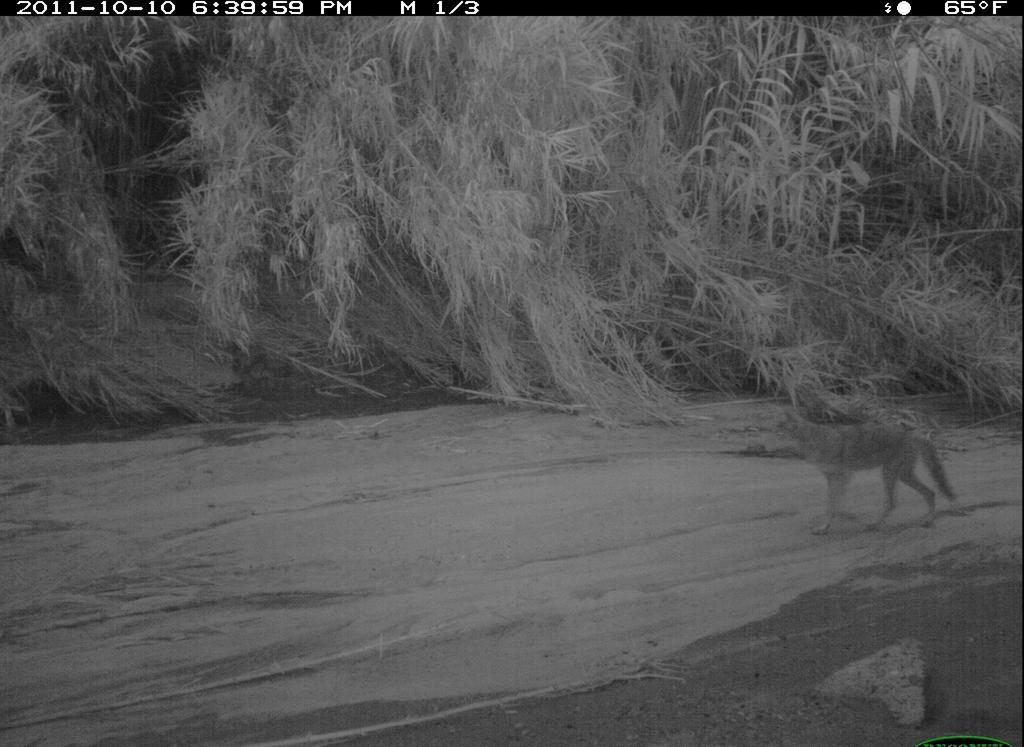coyote: (748, 400, 968, 540)
